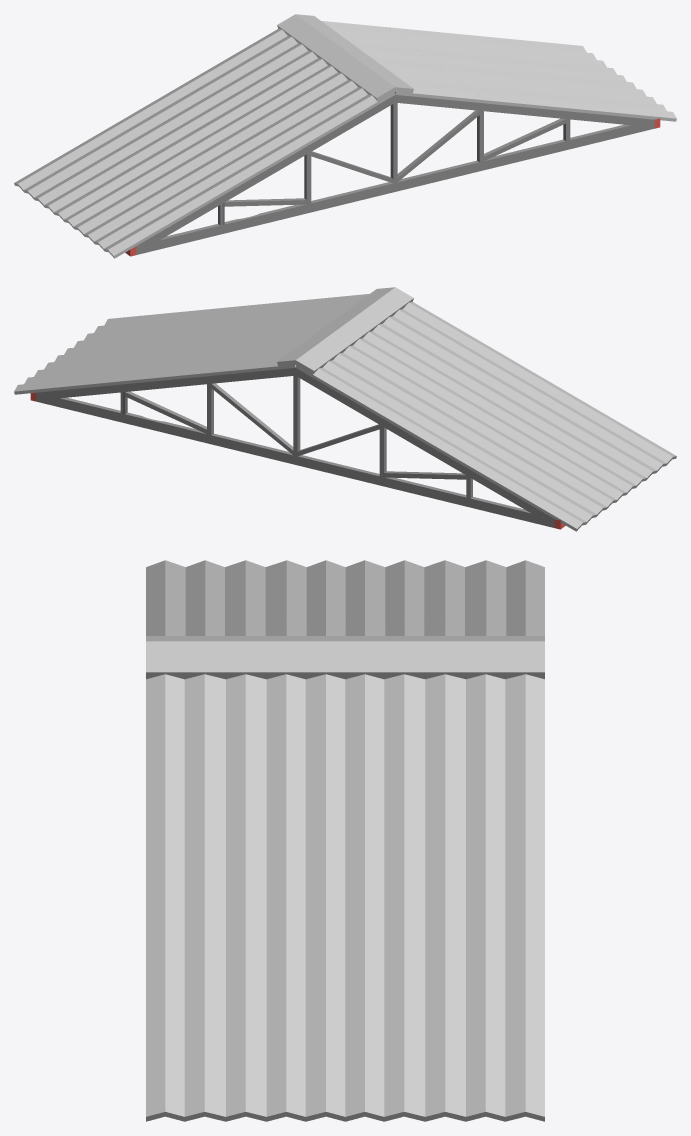
The model's file is Wh_Roof_18m.fbx.
3 views of the same model, one above another, from view 1: azimuth 30°, elevation 25°; view 2: azimuth 150°, elevation 25°; view 3: azimuth 270°, elevation 25° (orthographic). The views are drawn at different scales.
Visible parts, largest first — view 1: Cube.769; view 2: Cube.769; view 3: Cube.769.
Boxes of the visible parts, left/top/right/bottom form: Cube.769: left=14, top=14, right=676, bottom=258; Cube.769: left=14, top=287, right=676, bottom=531; Cube.769: left=146, top=560, right=544, bottom=1121.
Bounding box in the file's own units: 1963 × 348 × 600.
